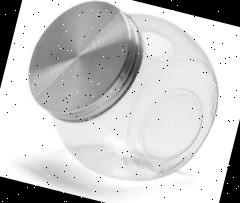glass: (6, 0, 235, 199)
